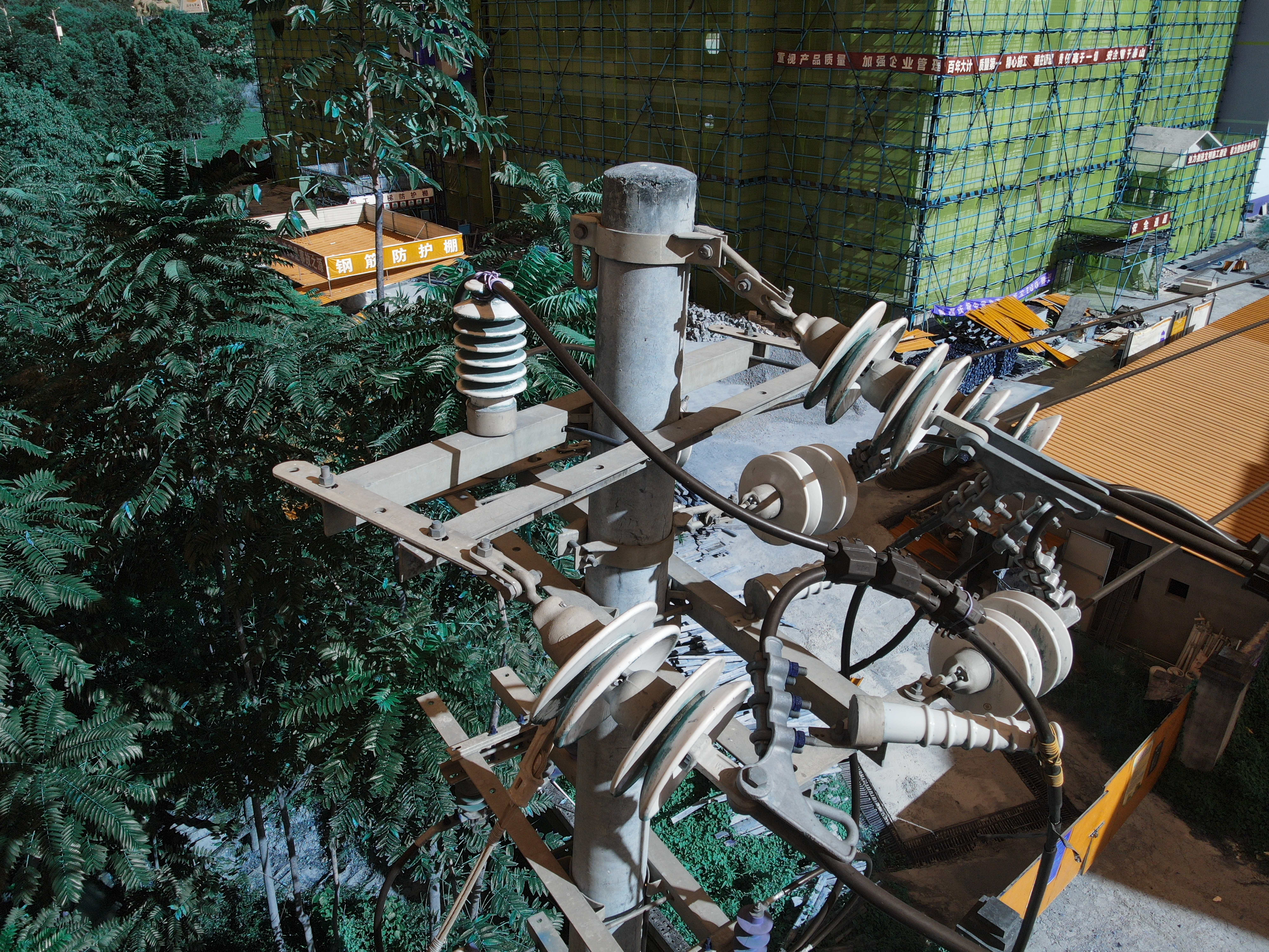severe_soiling_no_discharge_whole: (523, 585, 757, 820), (789, 296, 974, 472), (927, 588, 1074, 722), (450, 271, 531, 438), (936, 368, 1064, 473)
